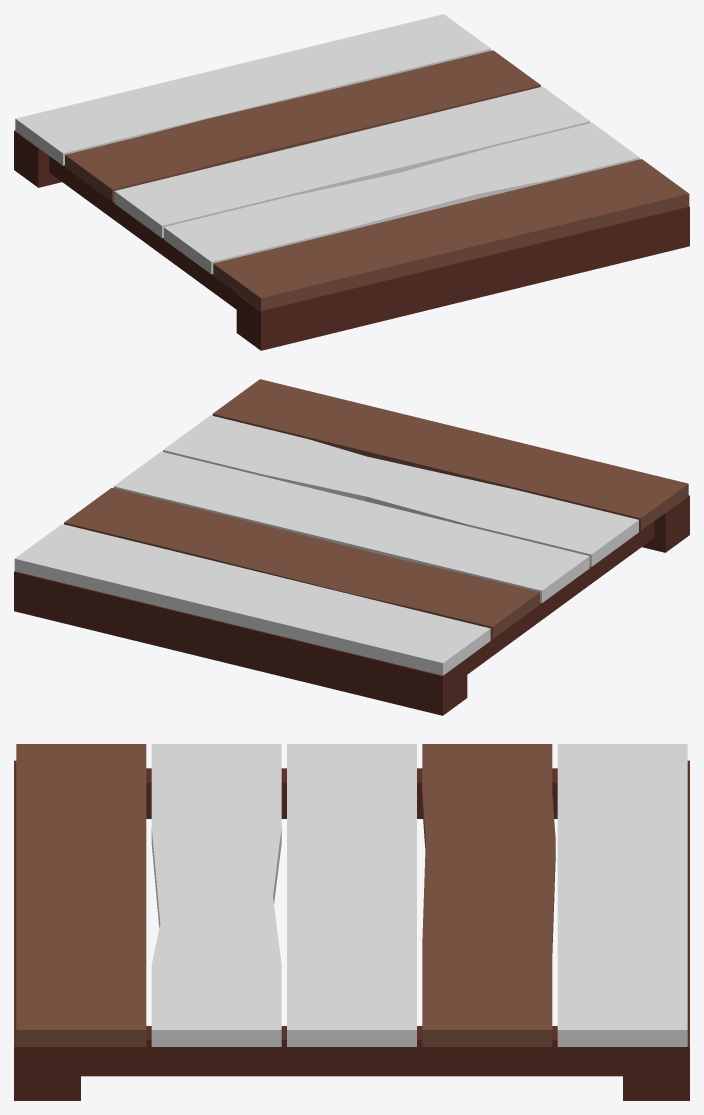
Rendered from ScrapFloor1.fbx.
The picture shows the model from 3 angles, top to bottom: view 1: azimuth 30°, elevation 25°; view 2: azimuth 150°, elevation 25°; view 3: azimuth 270°, elevation 25°; orthographic projection. The views are drawn at different scales.
Parts seen in each view (by area): view 1: Cube; view 2: Cube; view 3: Cube.
Part boxes in pixels (box(x1,y1,x2,y2)): Cube: box(14, 14, 689, 350); Cube: box(14, 379, 689, 715); Cube: box(14, 744, 689, 1100).
Size of the model in its own units: 200 by 23.14 by 200.
